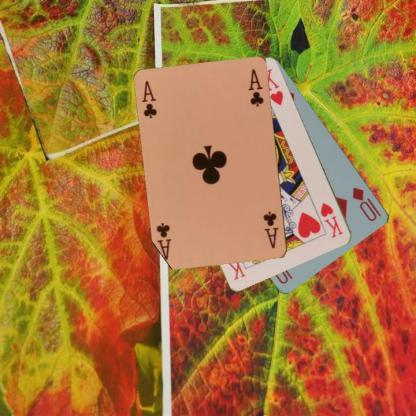10d: (350, 184, 382, 223)
Ac: (139, 78, 159, 120), (260, 209, 280, 250)
Kh: (318, 200, 344, 240)
